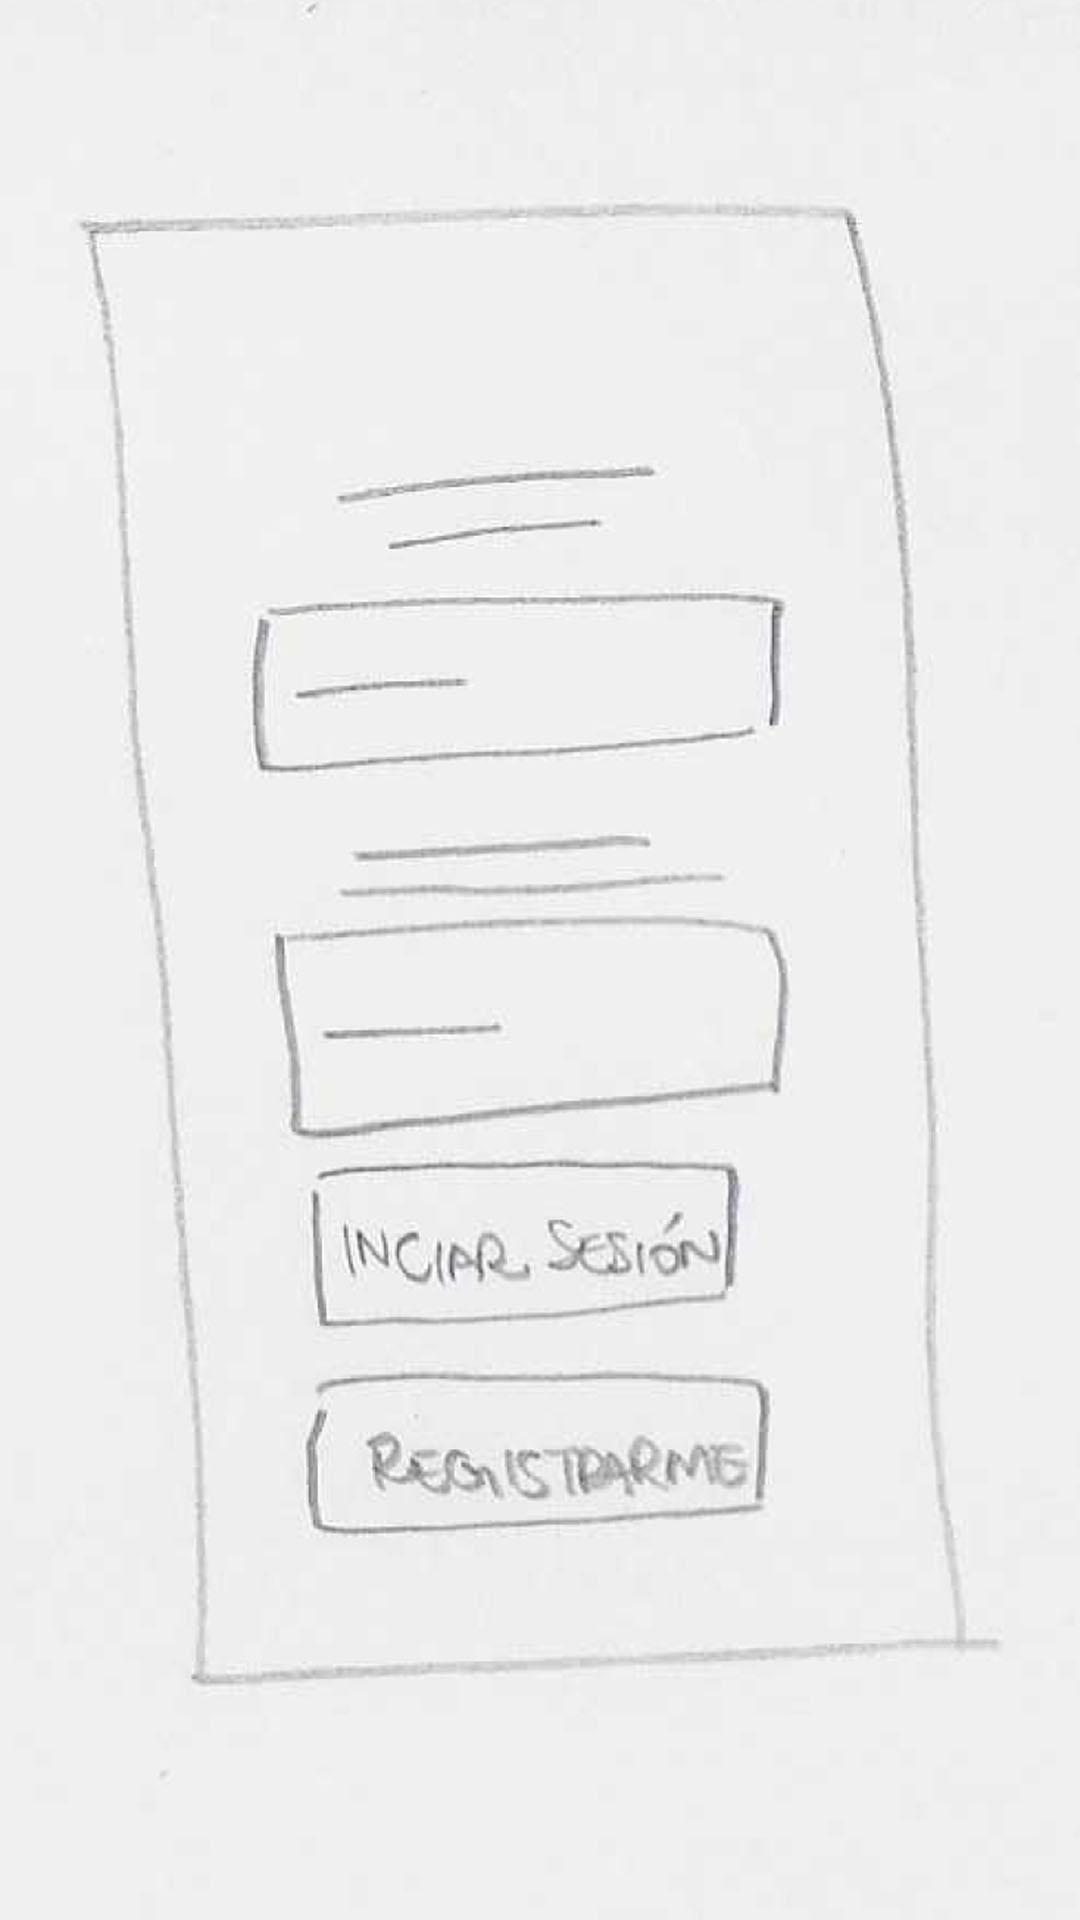Button: (307, 1373, 769, 1531), (310, 1164, 737, 1328)
Label: (330, 462, 661, 560), (332, 827, 729, 906)
Screen: (88, 204, 965, 1684)
TextBox: (274, 914, 785, 1138), (248, 593, 786, 774)
